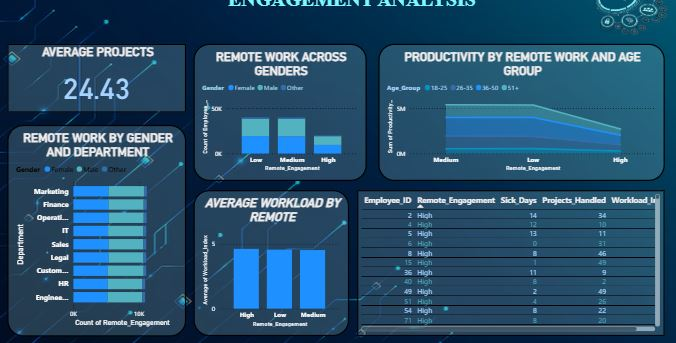

The dashboard page shown, as its layout file describes it:
{"tool":"powerbi","page":{"name":"Engage","canvas":[1280,720],"ordinal":7},"visuals":[{"type":"image","box":[1000.4,0,280.1,140.6],"z":0},{"type":"textbox","box":[426.8,40.6,495.7,57.6],"z":1000},{"type":"barChart","title":"REMOTE WORK BY GENDER AND DEPARTMENT","fields":{"Category":["cleaned_HR_analytics.Department"],"Y":["CountNonNull(cleaned_HR_analytics.Remote_Engagement)"],"Series":["cleaned_HR_analytics.Gender"]},"box":[17.1,302.1,336.3,397.5],"z":2000},{"type":"columnChart","title":"REMOTE WORK  ACROSS GENDERS","fields":{"Category":["cleaned_HR_analytics.Remote_Engagement"],"Y":["CountNonNull(cleaned_HR_analytics.Employee_ID)"],"Series":["cleaned_HR_analytics.Gender"]},"box":[366.9,149.2,325.3,258.1],"z":3000},{"type":"stackedAreaChart","title":"PRODUCTIVITY BY REMOTE WORK AND AGE GROUP","fields":{"Category":["cleaned_HR_analytics.Remote_Engagement"],"Y":["Sum(cleaned_HR_analytics.Productivity_Score)"],"Series":["cleaned_HR_analytics.Age_Group"]},"box":[715.5,149.2,538.1,258.1],"z":4000},{"type":"tableEx","fields":{"Values":["cleaned_HR_analytics.Employee_ID","cleaned_HR_analytics.Remote_Engagement","cleaned_HR_analytics.Sick_Days","cleaned_HR_analytics.Projects_Handled","cleaned_HR_analytics.Workload_Index"]},"box":[675.2,425.7,578.1,274.4],"z":5000},{"type":"card","title":"AVERAGE PROJECTS","fields":{"Values":["Avg(cleaned_HR_analytics.Projects_Handled)"]},"box":[17.1,149.2,336.3,129.6],"z":6000},{"type":"columnChart","title":"AVERAGE WORKLOAD BY REMOTE","fields":{"Category":["cleaned_HR_analytics.Remote_Engagement"],"Y":["Avg(cleaned_HR_analytics.Workload_Index)"]},"box":[367,425.7,292.5,274.4],"z":7000}]}

Visuals, with their boxes on the page's 1280x720 design canvas (x1, y1, x2, y2). These are canvas units, not pixel positions in the 676x343 screenshot, which may show the page scaled, cropped or inside an application window:
image: <box>1000,0,1280,141</box>
textbox: <box>427,41,922,98</box>
"REMOTE WORK BY GENDER AND DEPARTMENT" barChart: <box>17,302,353,700</box>
"REMOTE WORK  ACROSS GENDERS" columnChart: <box>367,149,692,407</box>
"PRODUCTIVITY BY REMOTE WORK AND AGE GROUP" stackedAreaChart: <box>716,149,1254,407</box>
tableEx - cleaned_HR_analytics.Employee_ID x cleaned_HR_analytics.Remote_Engagement: <box>675,426,1253,700</box>
"AVERAGE PROJECTS" card: <box>17,149,353,279</box>
"AVERAGE WORKLOAD BY REMOTE" columnChart: <box>367,426,660,700</box>
